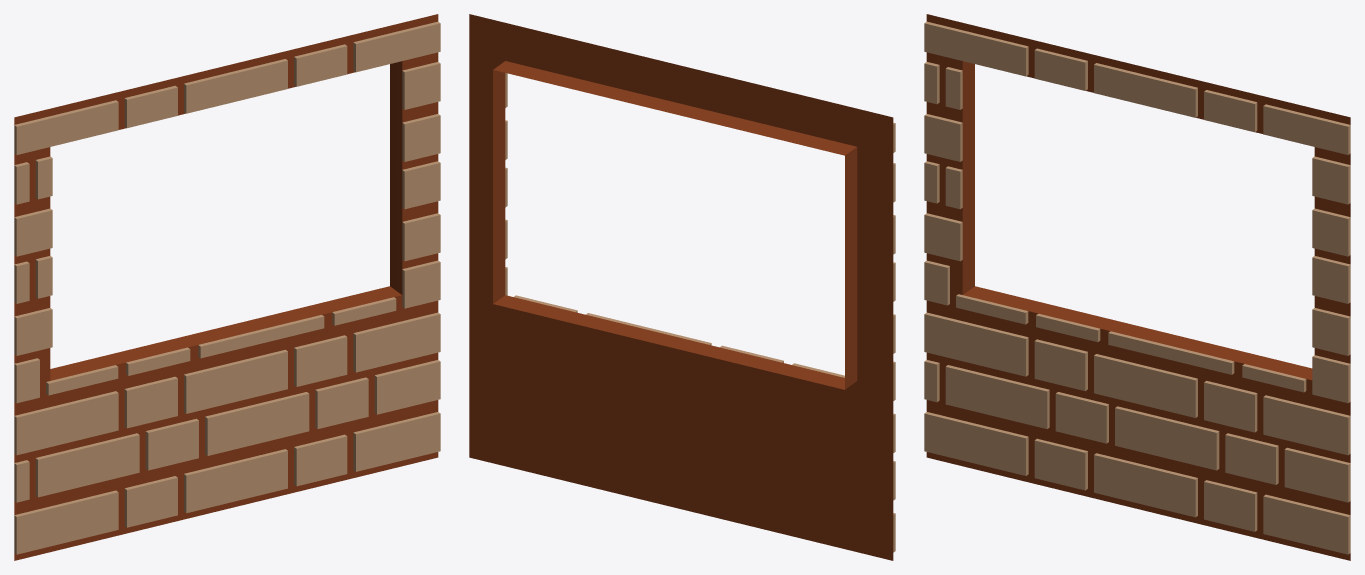
Rendered from Ext-BrickV1Windowframe.fbx.
3 renders of one model, left to right at view 1: azimuth 30°, elevation 25°; view 2: azimuth 150°, elevation 25°; view 3: azimuth 330°, elevation 25°, orthographic.
Parts seen in each view (by area): view 1: Ext-BrickV1Windowframe; view 2: Ext-BrickV1Windowframe; view 3: Ext-BrickV1Windowframe.
Part boxes in pixels (bbox=[...]): Ext-BrickV1Windowframe: bbox=[14, 14, 440, 560]; Ext-BrickV1Windowframe: bbox=[469, 14, 895, 560]; Ext-BrickV1Windowframe: bbox=[924, 14, 1350, 560].
Size of the model in its own units: 200 by 200 by 12.
